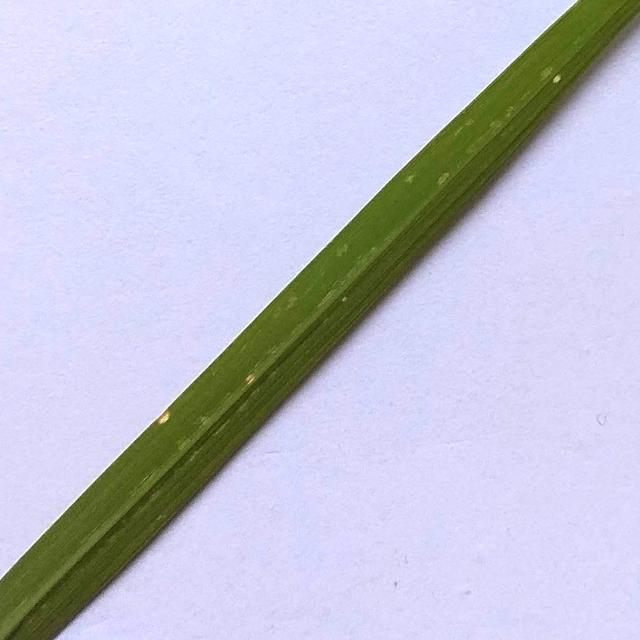Blast: (236, 371, 262, 386), (550, 72, 564, 84), (157, 415, 175, 423)
